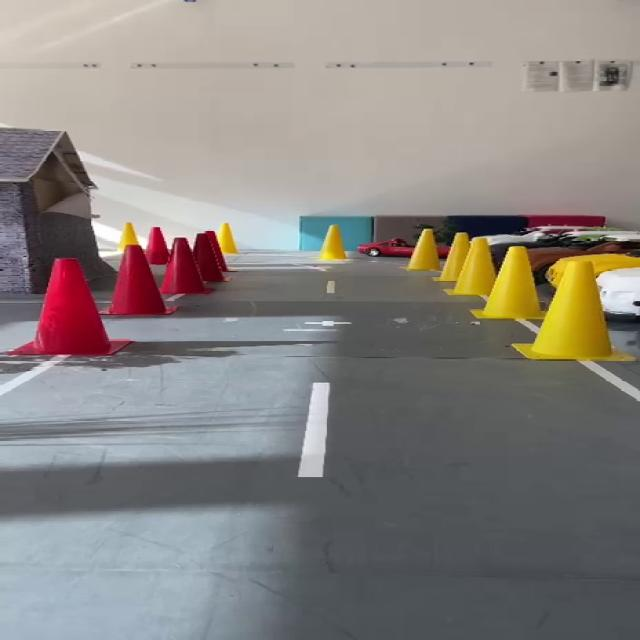Cone-red: (7, 258, 131, 355), (101, 245, 174, 316), (163, 238, 210, 295), (192, 233, 223, 283), (145, 227, 168, 265)
Cones-yellow: (513, 260, 629, 361), (472, 246, 543, 319), (450, 238, 495, 297), (437, 233, 469, 282), (407, 228, 439, 268), (320, 225, 346, 259), (217, 223, 237, 255)
